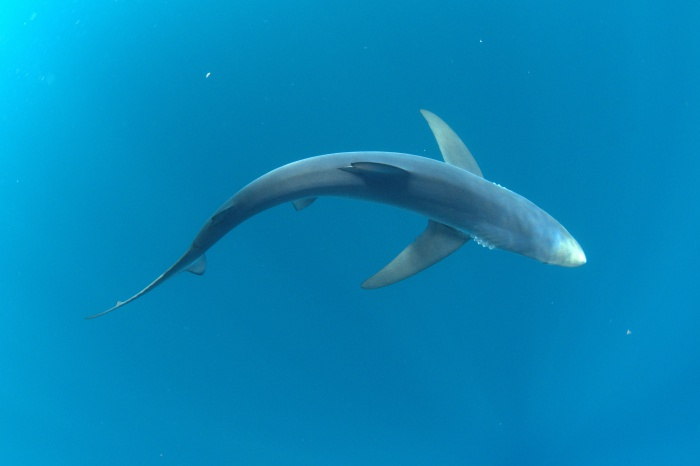Azul: (66, 69, 586, 324)
